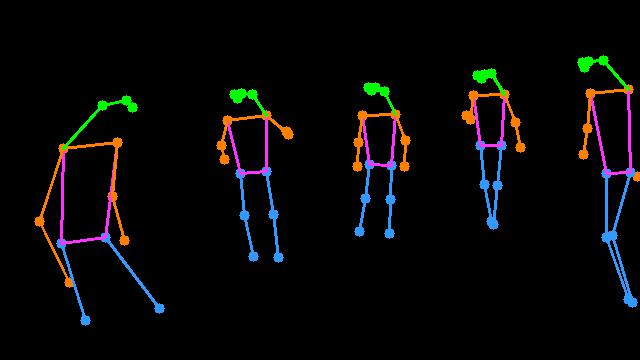normal: (21, 66, 173, 355), (566, 40, 640, 334), (214, 77, 301, 281), (342, 66, 418, 255), (460, 56, 526, 240)
